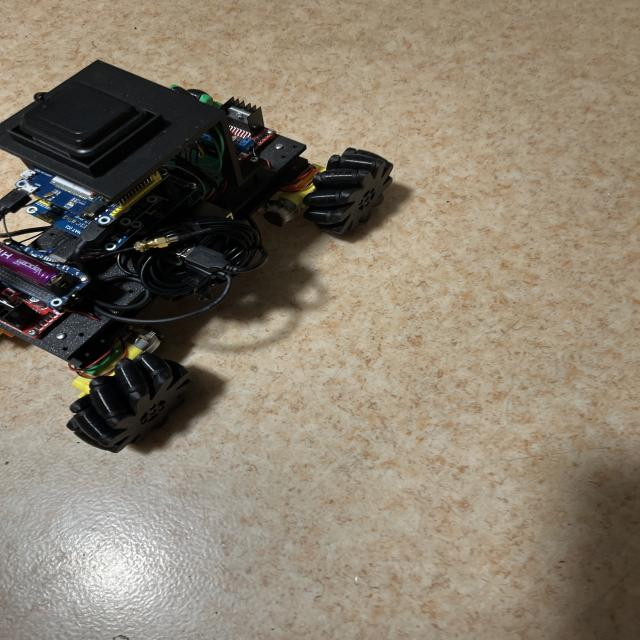robot: (0, 61, 393, 452)
